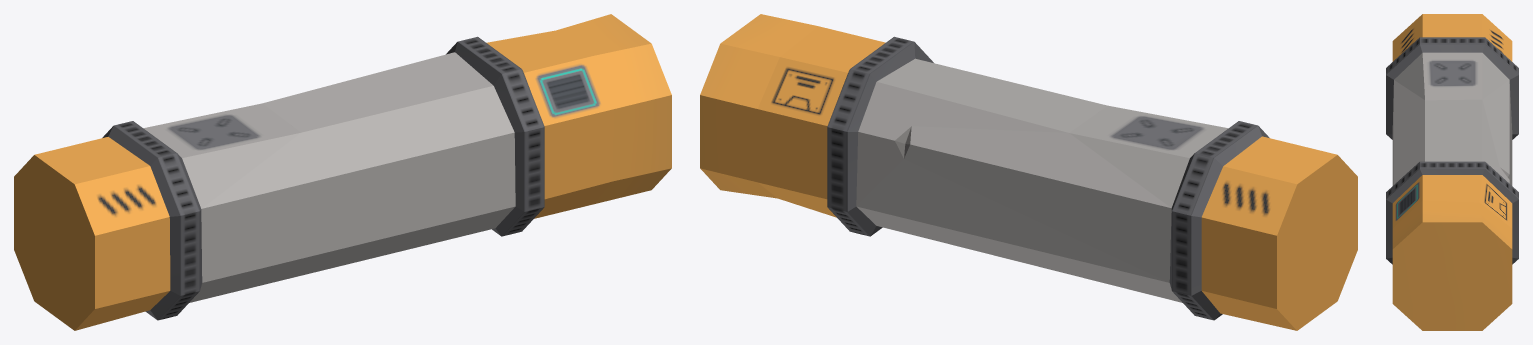
Rendered from SM_Bld_Pipe_Large_Octo_03.fbx.
3 renders of one model, left to right at view 1: azimuth 30°, elevation 25°; view 2: azimuth 150°, elevation 25°; view 3: azimuth 270°, elevation 25°, orthographic. The views are drawn at different scales.
Parts seen in each view (by area): view 1: SM_Bld_Pipe_Large_Octo_03; view 2: SM_Bld_Pipe_Large_Octo_03; view 3: SM_Bld_Pipe_Large_Octo_03.
Boxes of the visible parts, bbox=[...] form: SM_Bld_Pipe_Large_Octo_03: bbox=[14, 14, 671, 330]; SM_Bld_Pipe_Large_Octo_03: bbox=[700, 14, 1357, 330]; SM_Bld_Pipe_Large_Octo_03: bbox=[1386, 14, 1518, 330].
Size of the model in its own units: 500 by 135 by 135.
